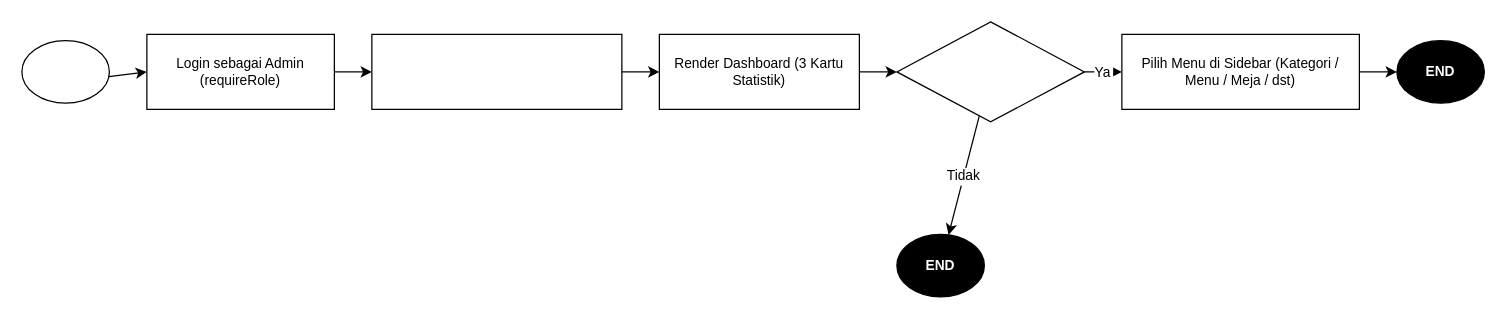
Image size: 1506x319. Some labels were removed from this diagram. The centre of each missing label's shape, as x and y in pixels:
"Navigasi ke Modul Lain?" belongs at (x=990, y=71).
"Query Statistik Hari Ini dari DB (Total Sales, Orders, Menu)" belongs at (x=496, y=71).
"START" belongs at (x=65, y=71).
